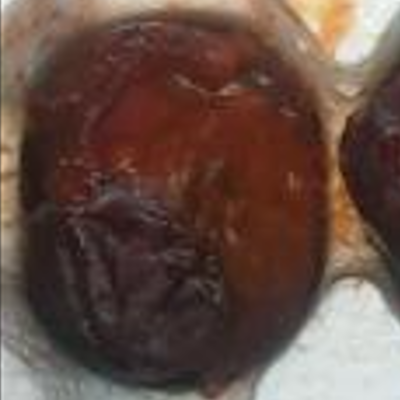plum_C: (19, 18, 331, 391)
